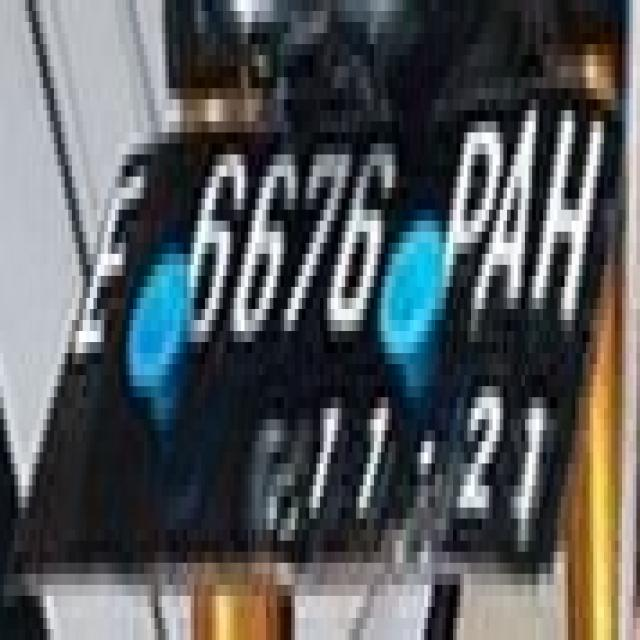plate: (11, 99, 622, 574)
